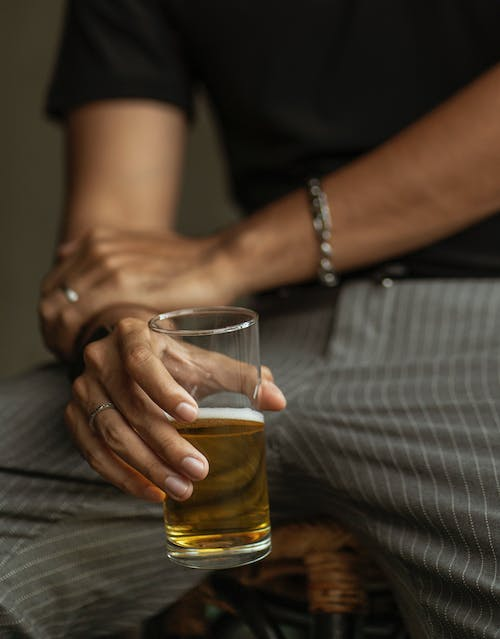alcohol: (146, 305, 273, 572)
